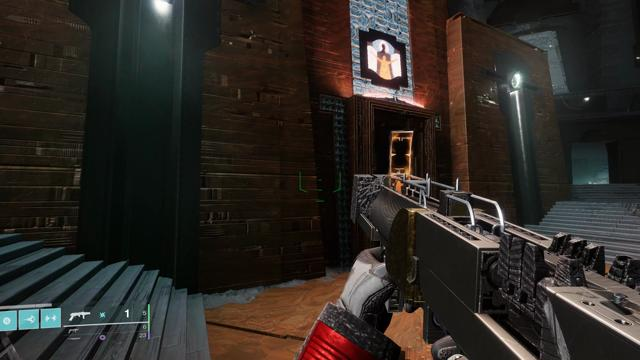worship: (367, 39, 402, 80)
